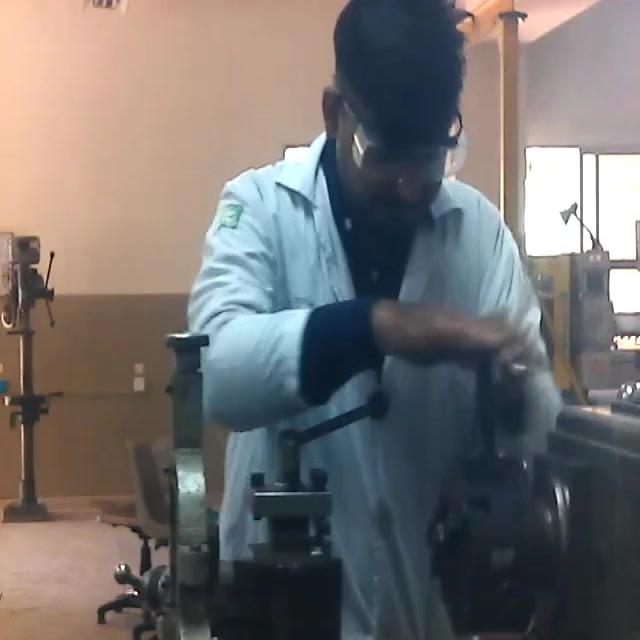googles: (354, 123, 465, 187)
labcoat: (189, 126, 560, 640)
